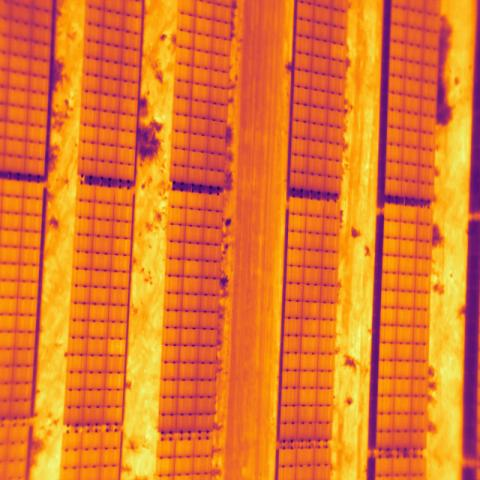fault: (107, 338, 125, 357), (330, 43, 346, 62)
